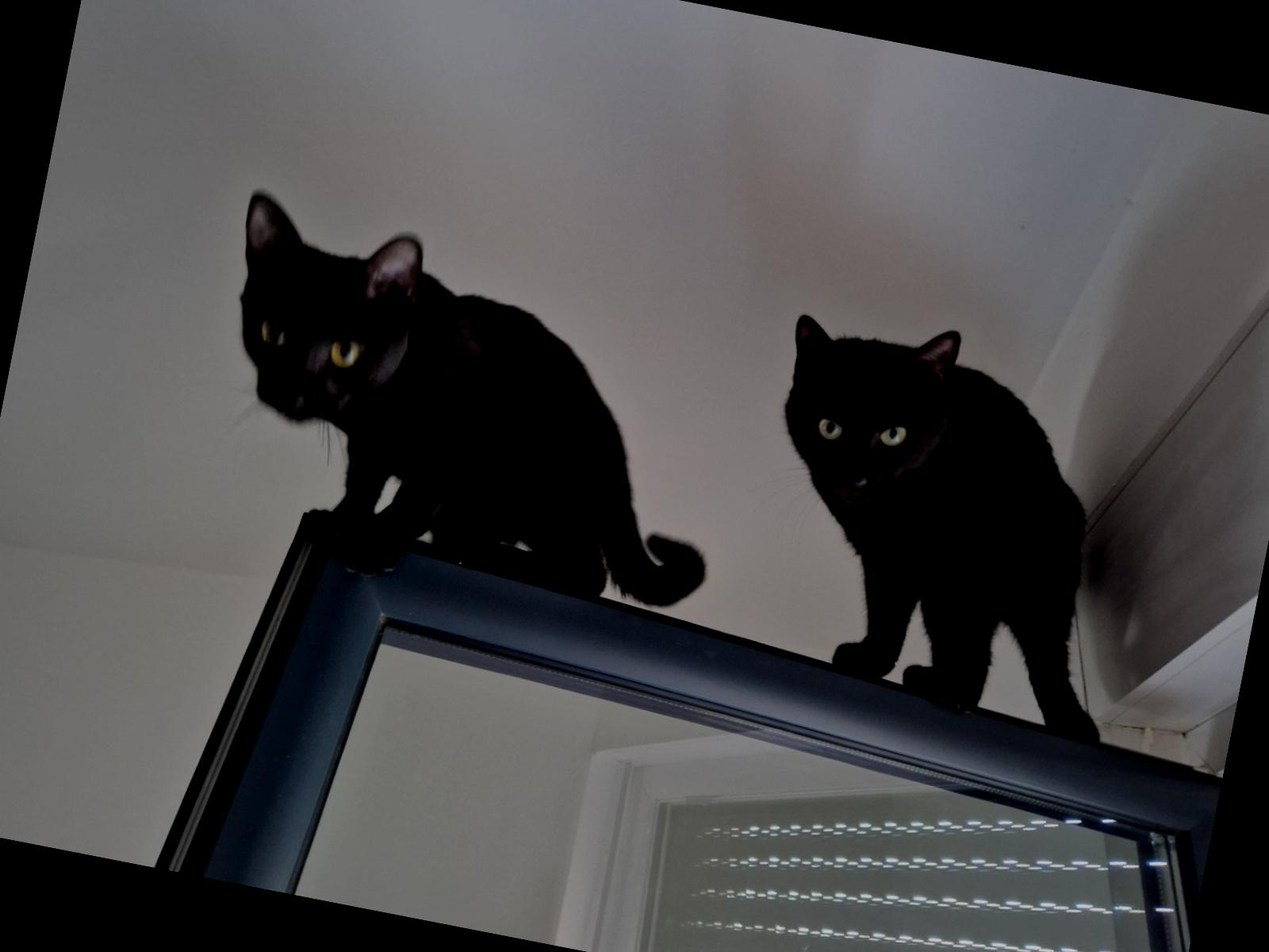macka: (179, 187, 762, 633), (727, 295, 1179, 749)
